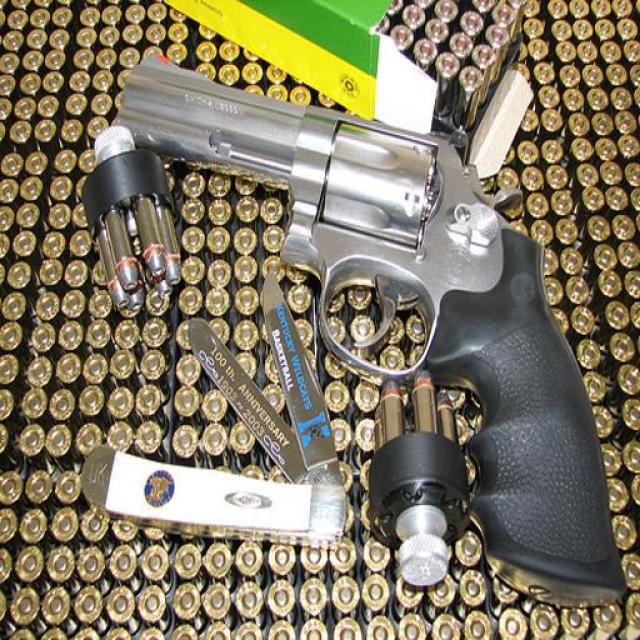pistol: (111, 49, 627, 610)
